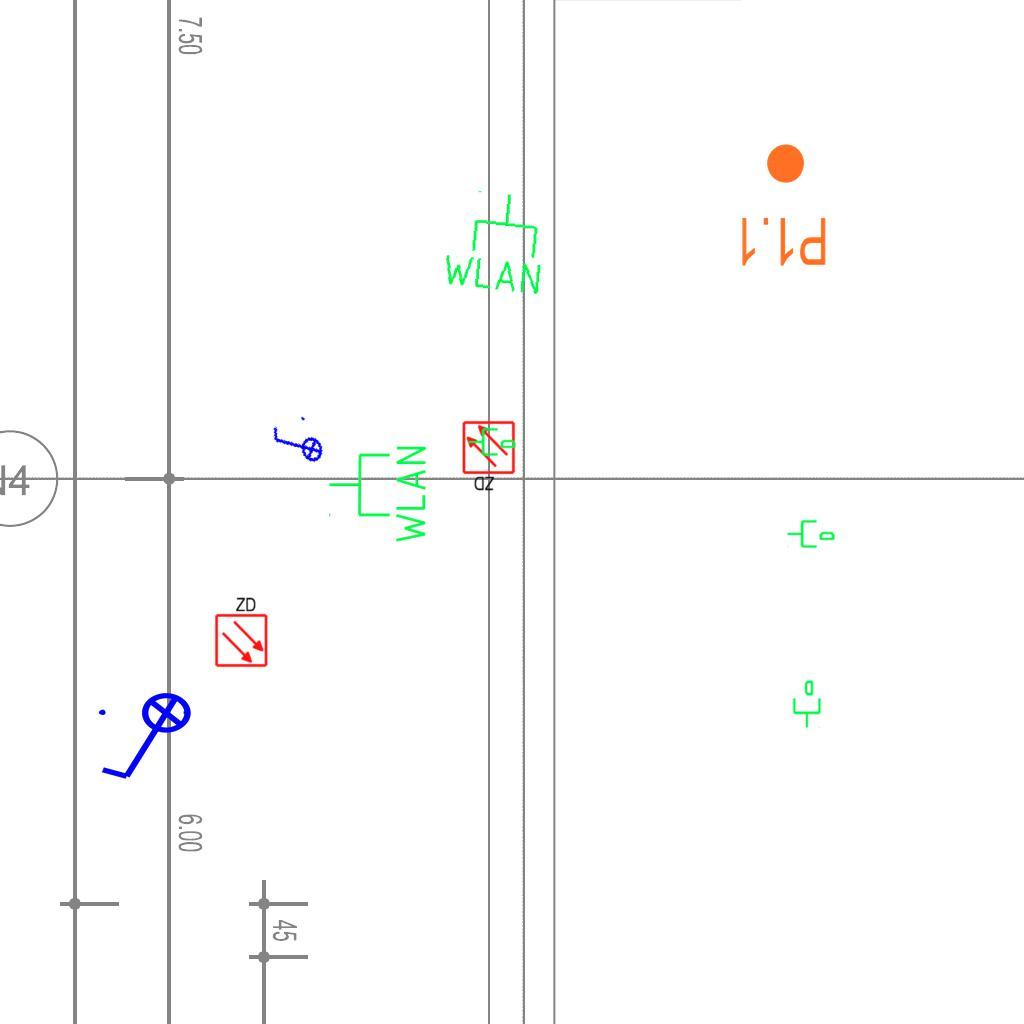Ausschalter_beleuchtet: (93, 691, 205, 787), (265, 411, 329, 479)
Datenanschluss_einfach: (789, 679, 823, 729), (786, 516, 836, 550), (467, 424, 517, 458)
Downlight_LED_Einbauleuchten_Flur: (736, 141, 829, 269)
WLAN: (437, 184, 553, 299), (326, 442, 430, 547)
ZD_Melder_in_Zwischendecke_mit_Revisionsoeffnung_mind_40_x_40_cm: (461, 420, 518, 494), (212, 594, 269, 668)
